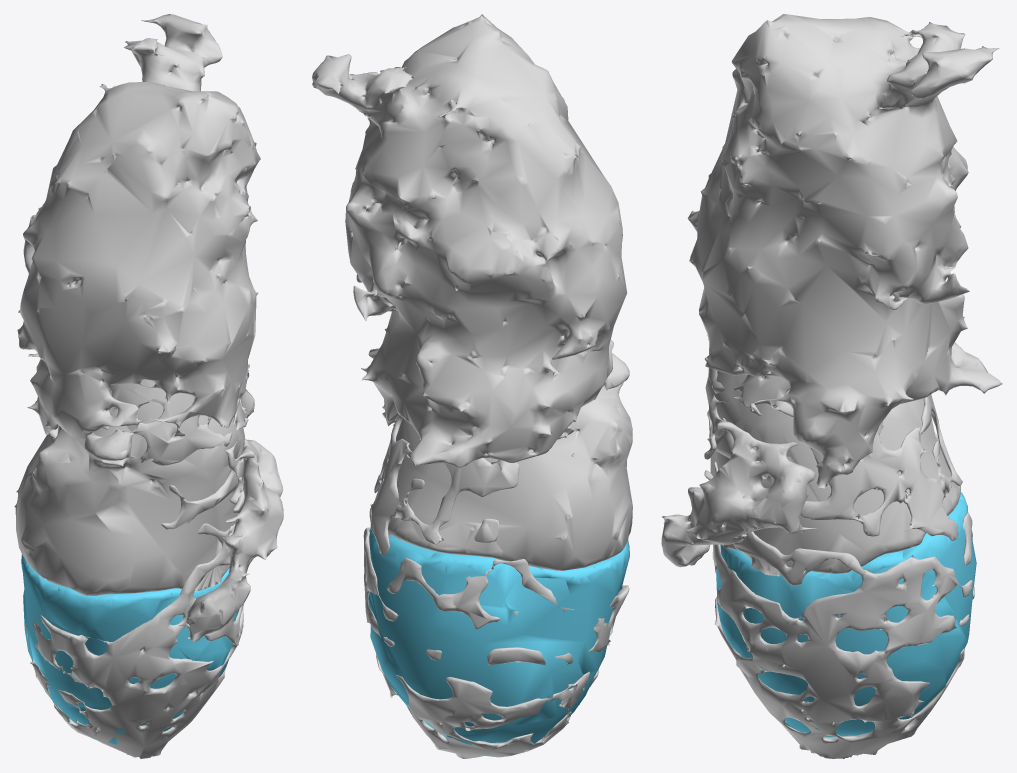
Rendered from ARtarget2.glb.
3 views of the same model, side by side, from view 1: azimuth 30°, elevation 25°; view 2: azimuth 150°, elevation 25°; view 3: azimuth 270°, elevation 25° (orthographic). The views are drawn at different scales.
Visible parts, largest first — view 1: TS09 Xecto polartrophectoderm, TS09 Xendo visceral, TS09 Xendo parietal, TS09 endoderm, TS09 Xecto muraltrophectoderm; view 2: TS09 Xecto polartrophectoderm, TS09 endoderm, TS09 Xendo visceral, TS09 Xendo parietal; view 3: TS09 Xecto polartrophectoderm, TS09 Xendo parietal, TS09 endoderm, TS09 Xendo visceral, TS09 Xecto muraltrophectoderm.
Part boxes in pixels (x1=…): TS09 Xecto polartrophectoderm: x1=17, y1=14, x2=260, y2=438; TS09 Xendo visceral: x1=14, y1=379, x2=244, y2=595; TS09 Xendo parietal: x1=25, y1=379, x2=246, y2=758; TS09 endoderm: x1=21, y1=554, x2=238, y2=744; TS09 Xecto muraltrophectoderm: x1=84, y1=418, x2=283, y2=641; TS09 Xecto polartrophectoderm: x1=312, y1=14, x2=627, y2=467; TS09 endoderm: x1=368, y1=528, x2=629, y2=754; TS09 Xendo visceral: x1=369, y1=382, x2=632, y2=570; TS09 Xendo parietal: x1=363, y1=414, x2=629, y2=758; TS09 Xecto polartrophectoderm: x1=687, y1=14, x2=1002, y2=488; TS09 Xendo parietal: x1=707, y1=335, x2=974, y2=758; TS09 endoderm: x1=716, y1=492, x2=976, y2=737; TS09 Xendo visceral: x1=705, y1=366, x2=960, y2=576; TS09 Xecto muraltrophectoderm: x1=661, y1=395, x2=817, y2=567.
Size of the model in its own units: 10.1 by 26.91 by 11.11.
